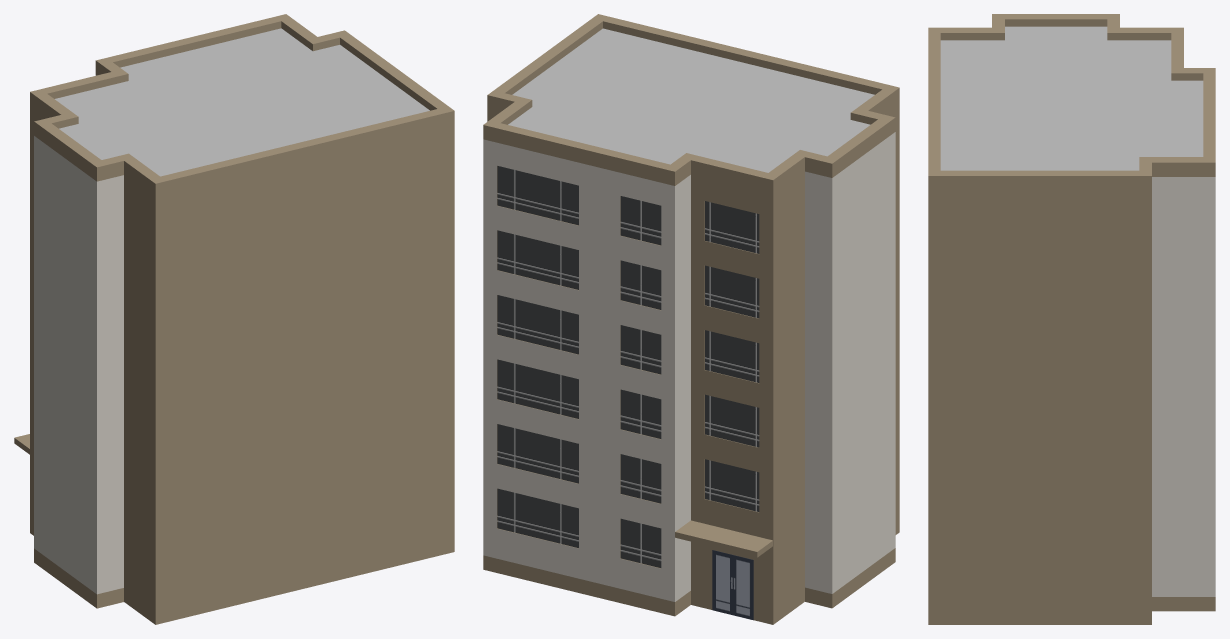
File: SPW_Urban_Bldg_02.gltf
The picture shows the model from 3 angles, left to right: view 1: azimuth 30°, elevation 25°; view 2: azimuth 150°, elevation 25°; view 3: azimuth 270°, elevation 25°; orthographic projection.
Visible parts, largest first — view 1: SPW_Urban_Bldg_02; view 2: SPW_Urban_Bldg_02; view 3: SPW_Urban_Bldg_02.
Boxes of the visible parts, x1,y1,x2,y2 form: SPW_Urban_Bldg_02: (14, 14, 454, 624); SPW_Urban_Bldg_02: (483, 14, 899, 624); SPW_Urban_Bldg_02: (928, 14, 1215, 624).
Bounding box in the file's own units: 827 × 1068 × 620.
1 material, 1 textured.
